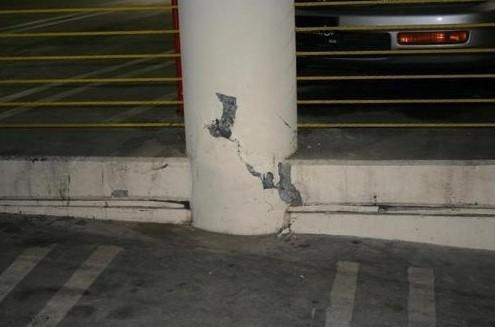crack: (228, 138, 262, 183), (122, 163, 170, 176), (277, 215, 302, 234), (277, 114, 293, 128), (263, 193, 273, 215)
damage: (262, 162, 303, 206), (208, 93, 238, 138)
